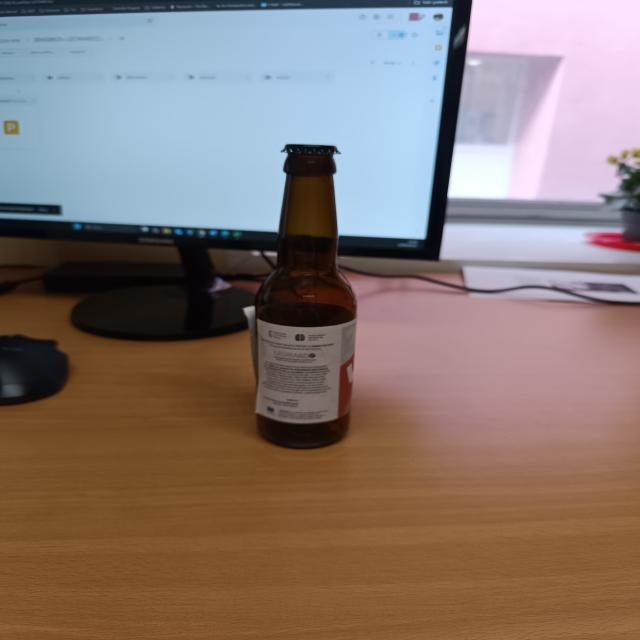Bottle: (254, 143, 357, 448)
Cap: (271, 142, 343, 156)
Label: (256, 322, 356, 419)
